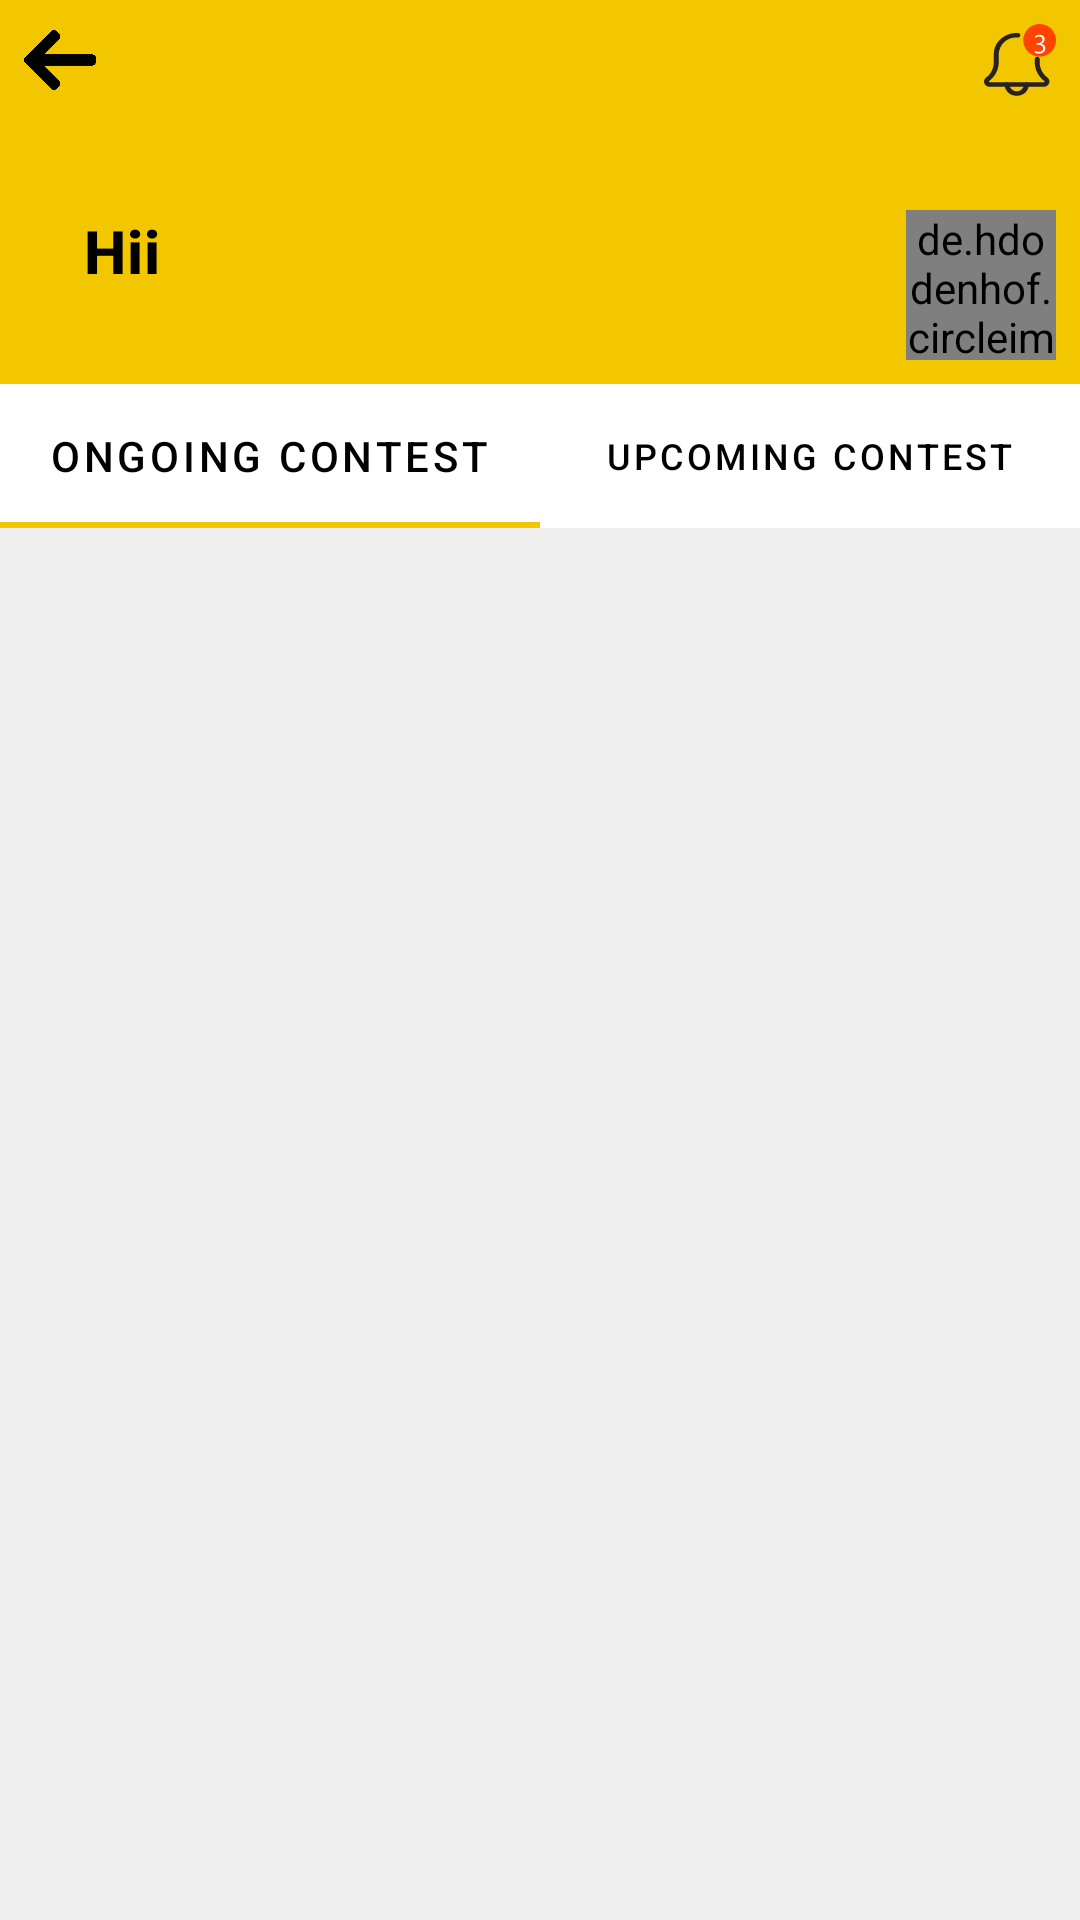

Icons on this 1080px x 1920px Android screen, each with the point to tap as (x,y):
back arrow: (60,60)
notification: (1020,60)
